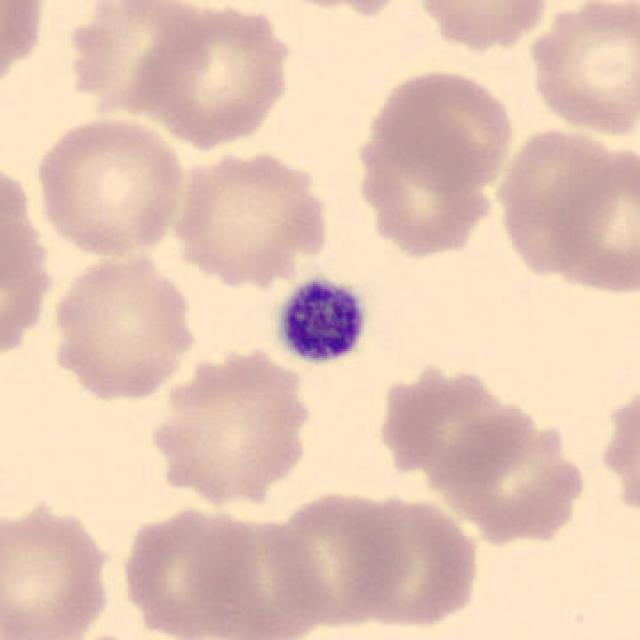Platelets: (268, 272, 372, 370)
RBC: (142, 340, 316, 508), (124, 0, 300, 150), (44, 248, 201, 404), (427, 398, 590, 548), (167, 145, 333, 289), (498, 123, 636, 294), (30, 113, 188, 261), (262, 483, 412, 630), (118, 499, 268, 638), (339, 490, 484, 633), (361, 117, 504, 261), (361, 64, 519, 192), (63, 2, 221, 114), (0, 492, 117, 640), (385, 372, 522, 494), (522, 0, 640, 141), (410, 0, 554, 51), (0, 2, 52, 98), (604, 386, 640, 514), (254, 0, 422, 18)
